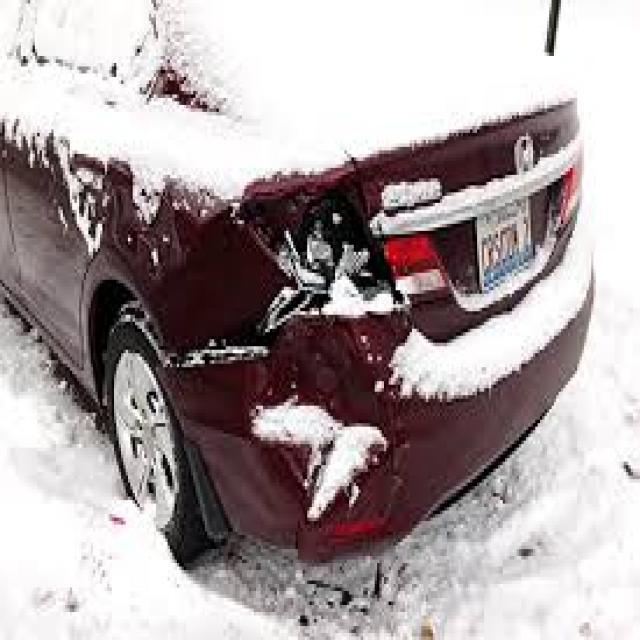moderate: (258, 150, 384, 346)
